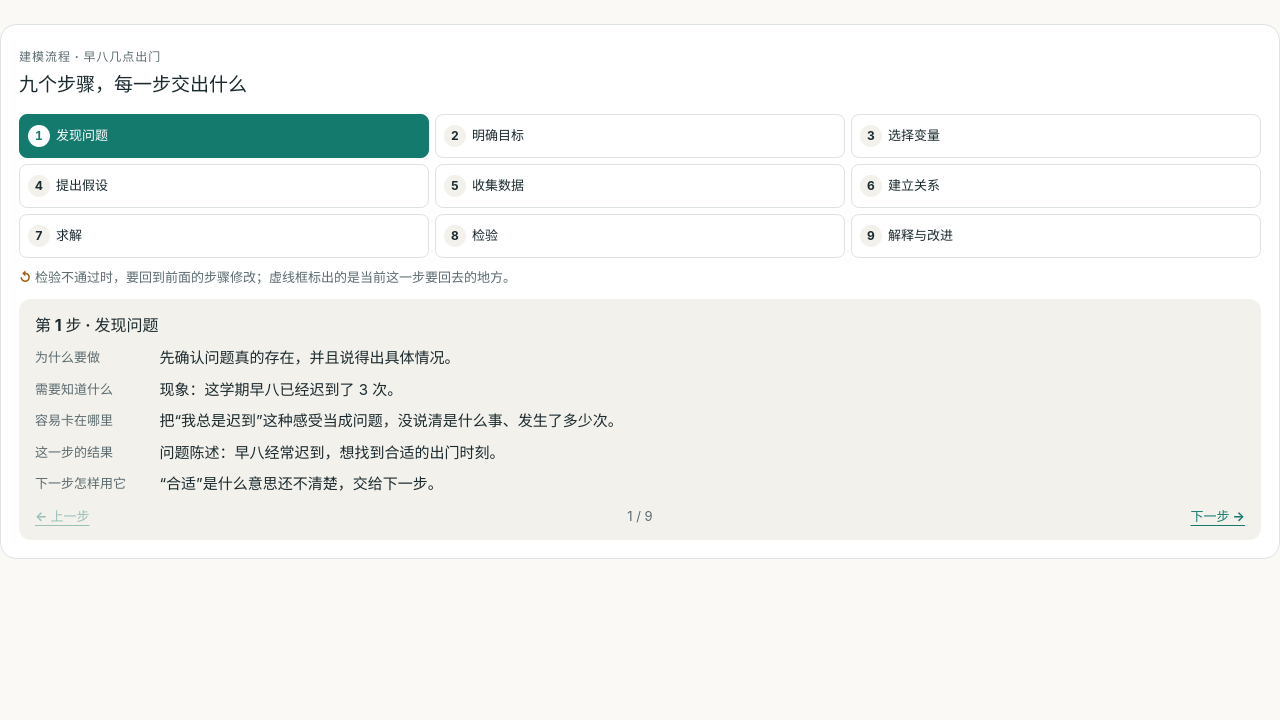
it: ProcessExplorer › shows one step at a time and moves with the arrow keys
Expected: the panel shows "问题陈述：早八经常迟到，想找到合适的出门时刻。", [160,442,504,462]
Press ArrowRight in the tab "1 发现问题", box [19,114,429,158]
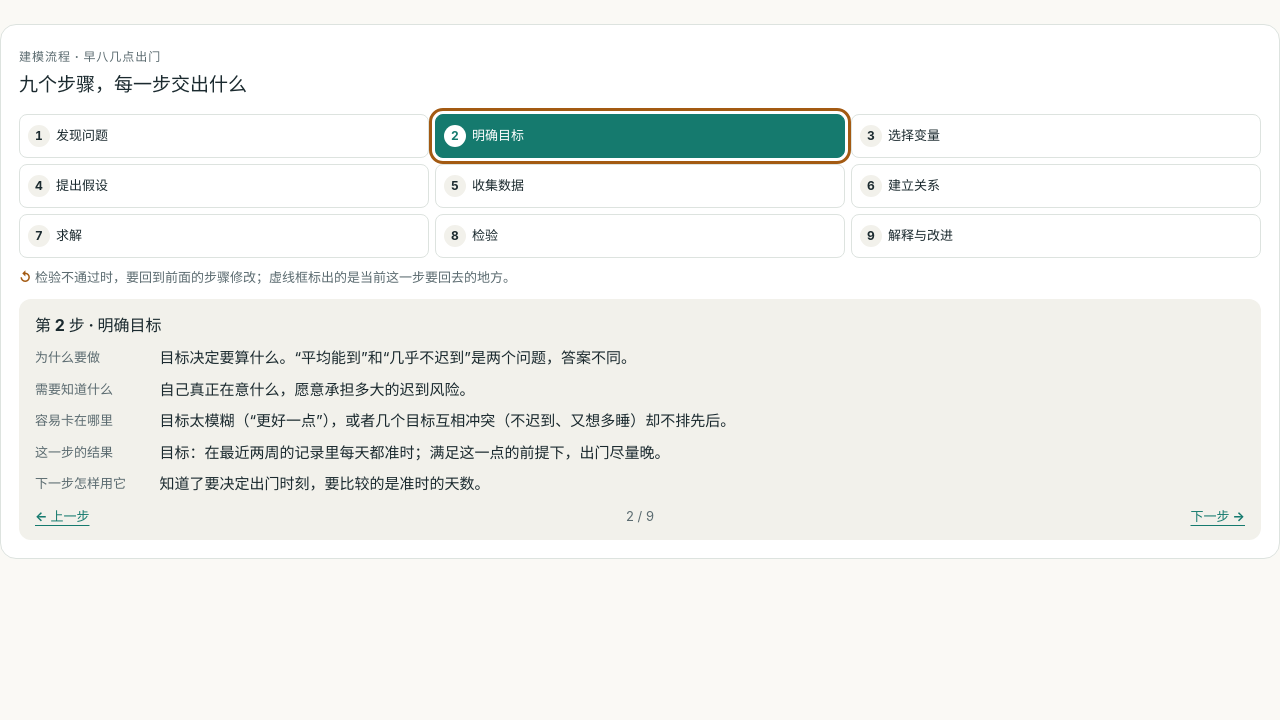
Result: the tab "2 明确目标" is selected
Press End in the tab "2 明确目标", box [435,114,845,158]
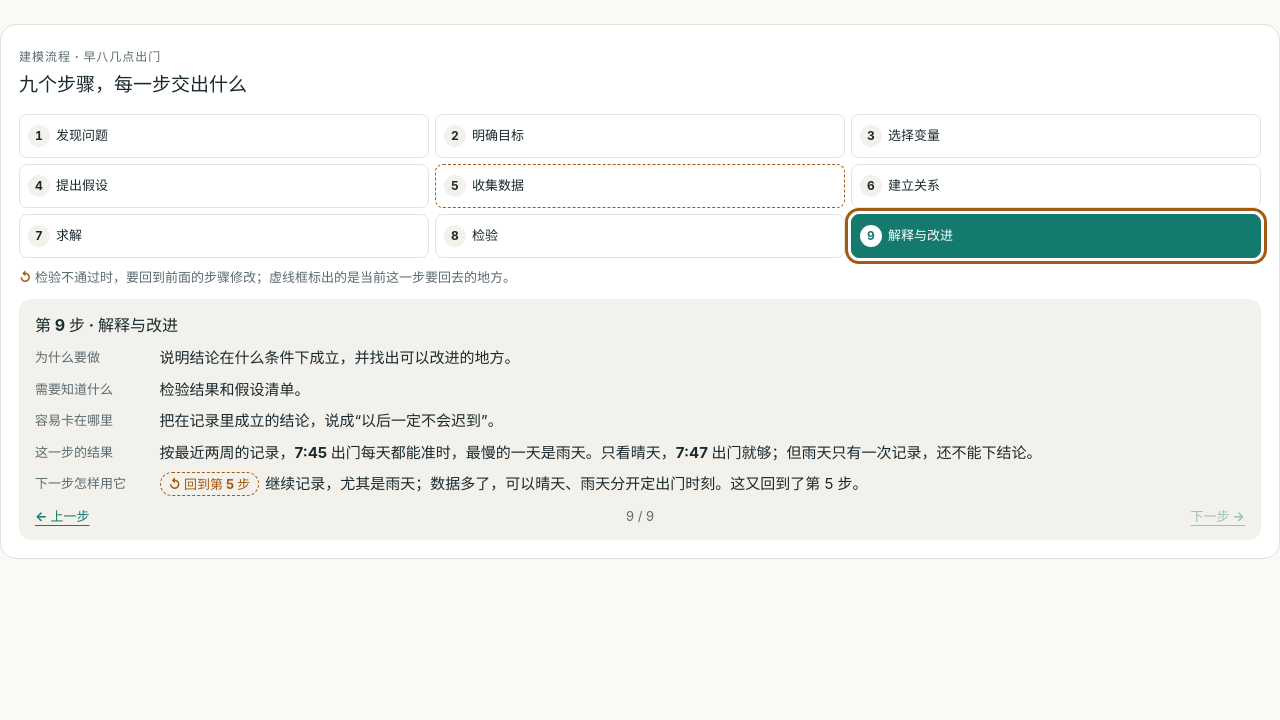
Result: the panel shows "第 9 步 · 解释与改进" at [19,299,1261,540]
Click the tab "8 检验" at x=455, y=236, box [435,214,845,258]
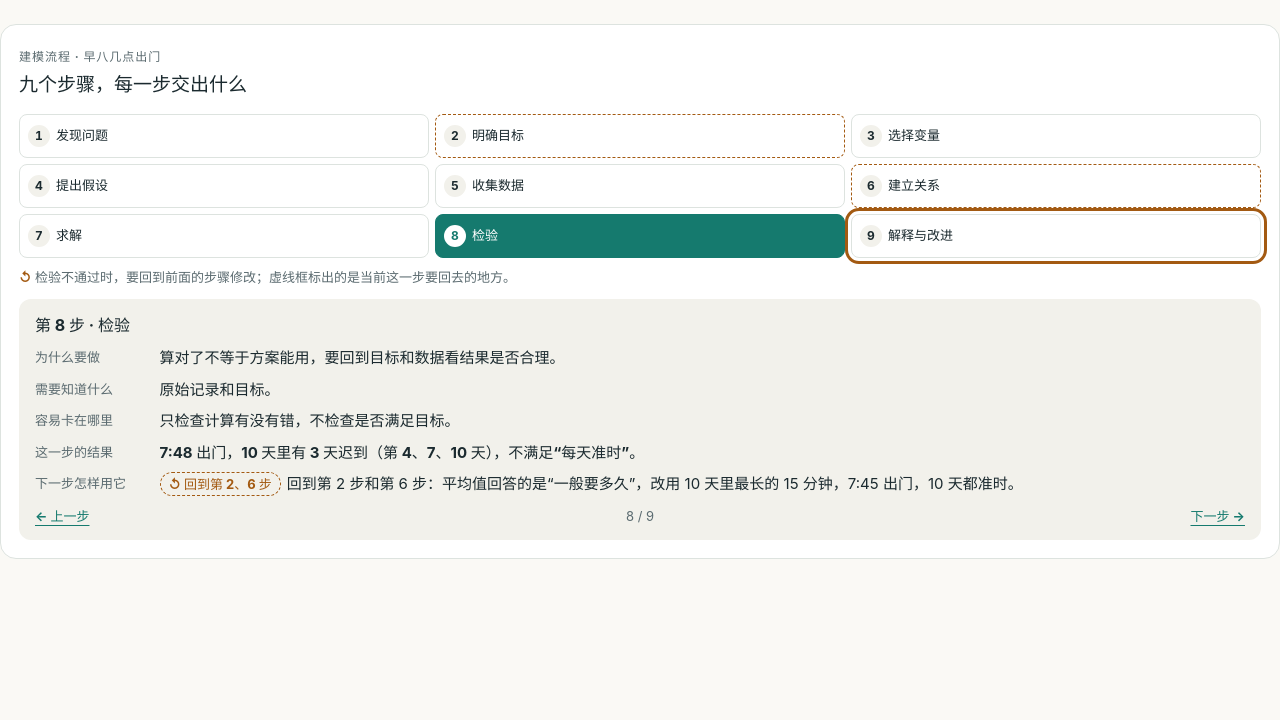
Result: the panel shows "↺ 回到第 2、6 步" at [19,299,1261,540]
Press Home in the tab "8 检验", box [435,214,845,258]
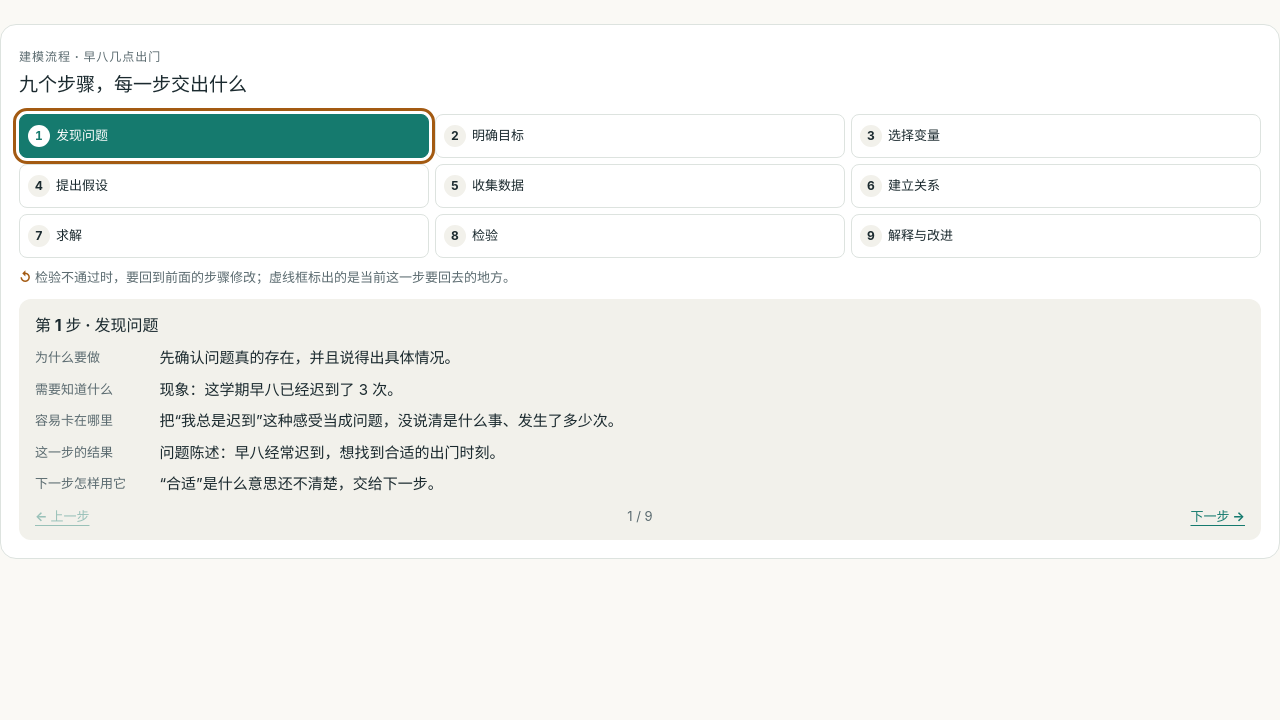
Result: the panel shows "第 1 步 · 发现问题" at [19,299,1261,540]
